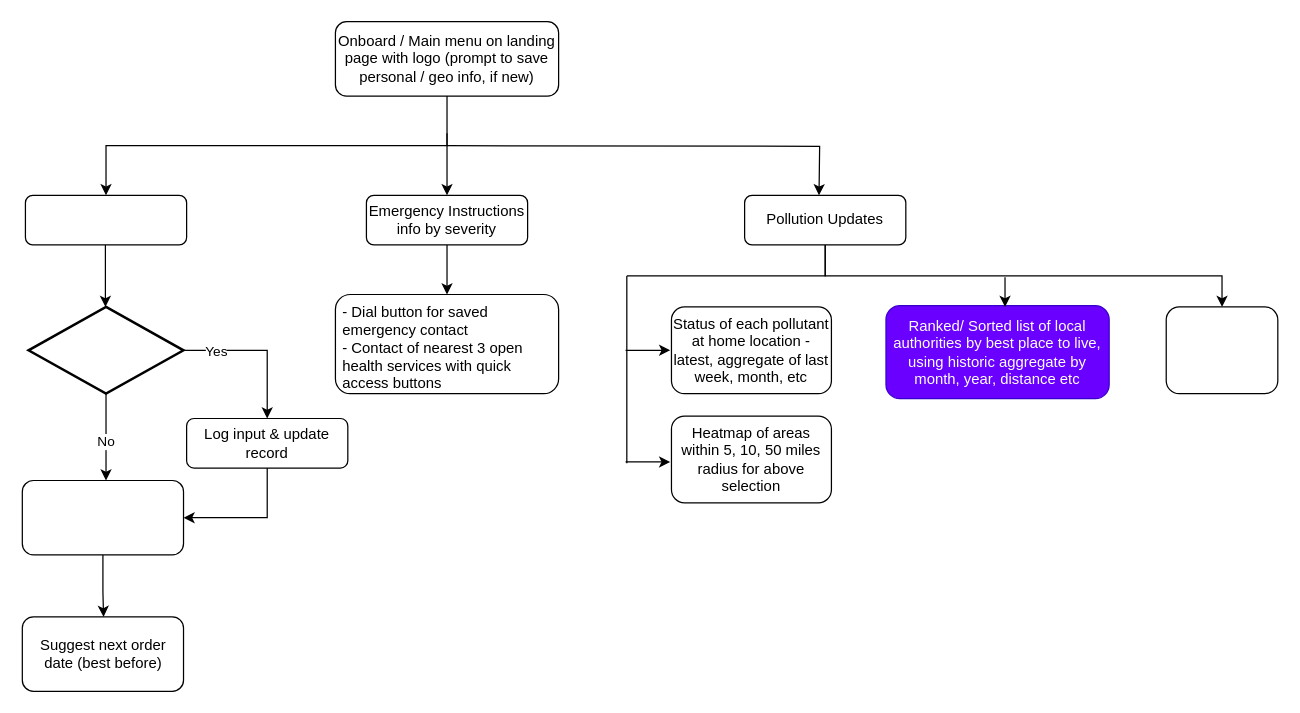
Image size: 1300x713. Some labels were removed from this diagram. Here are the shapes that lost their labels. From the top down, the box of each, then its label:
(24, 194, 187, 245): Inhalor Log & Monitor
(27, 305, 184, 394): Log inhaler use?
(1165, 306, 1278, 394): Side bar of London-centric pollution news alerts
(21, 479, 184, 555): Show status (warning) in past hour, day, week, month
